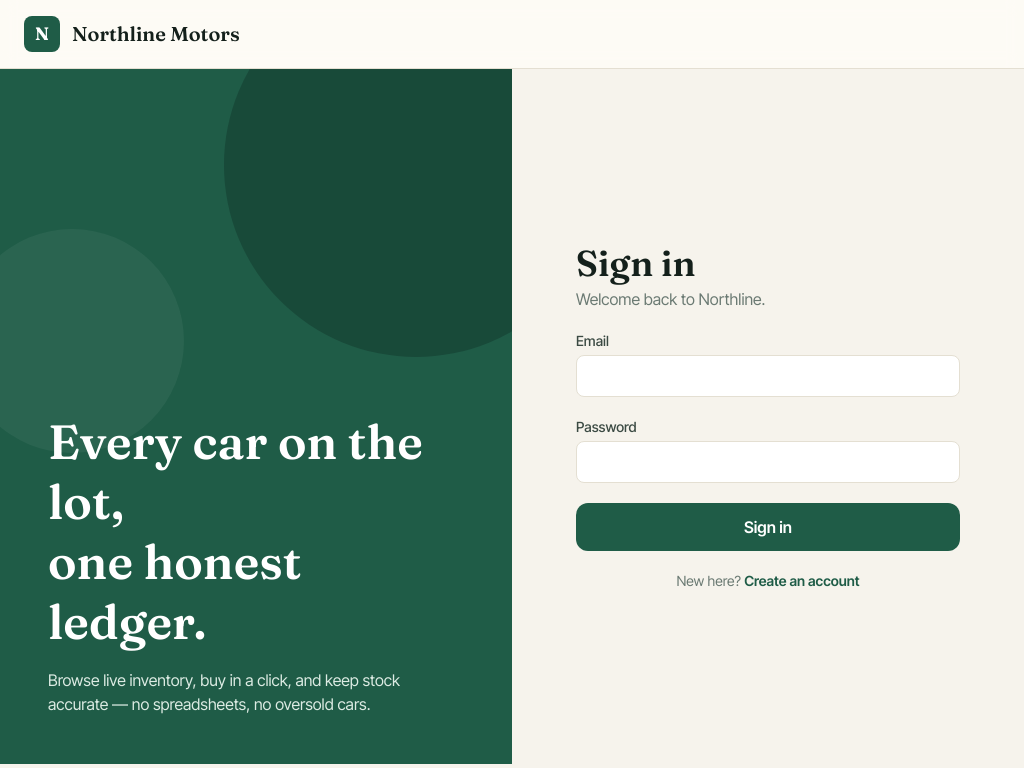
Test case: App › shows the server error on a failed login
Type "x@y.com" into the field labelled "Email" at x=768, y=376, box [576,354,960,396]
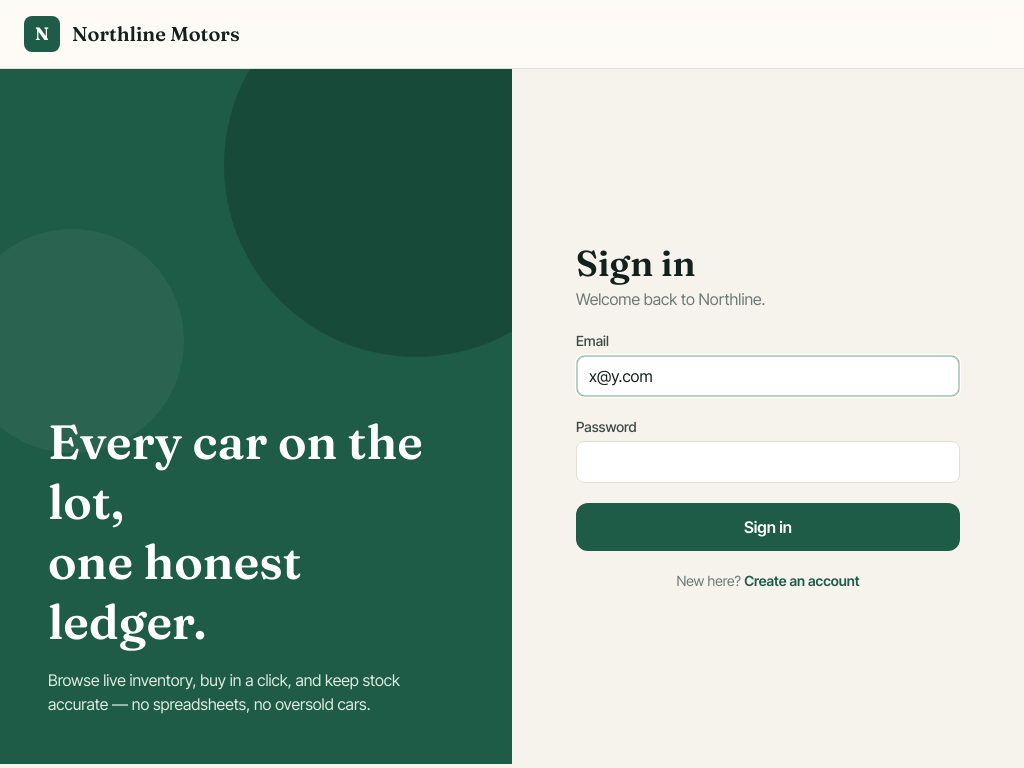
Type "badpassword" into the password field labelled "Password" at x=768, y=462, box [576,440,960,482]
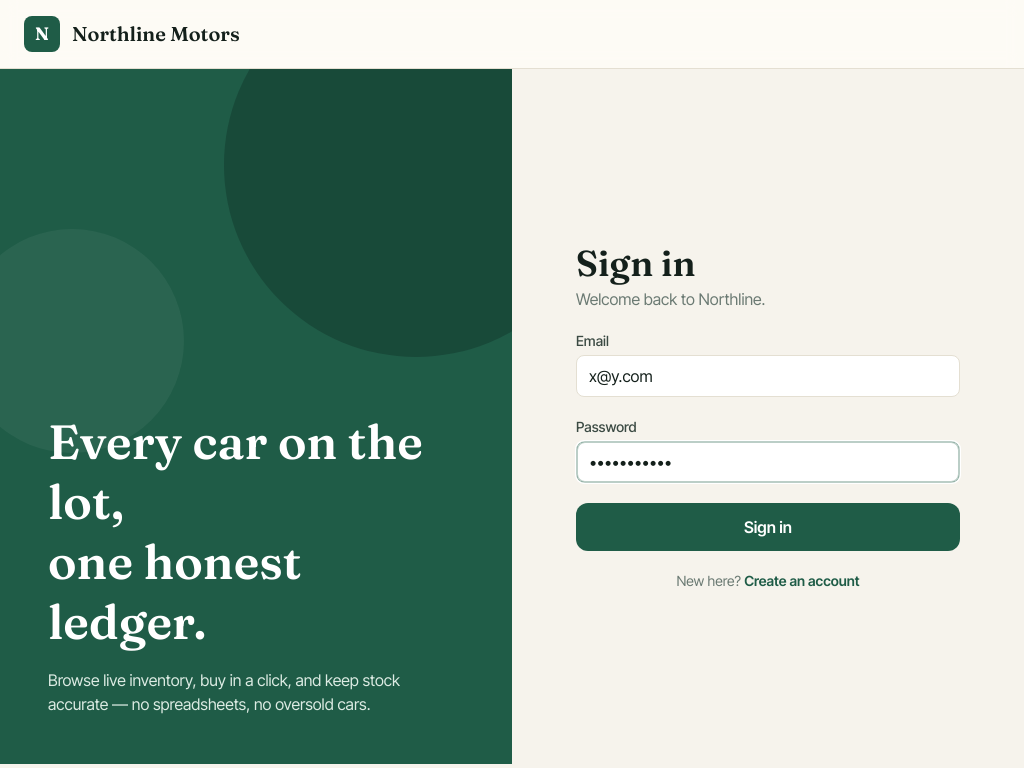
Click the button "Sign in" at x=768, y=526, box [576,502,960,550]
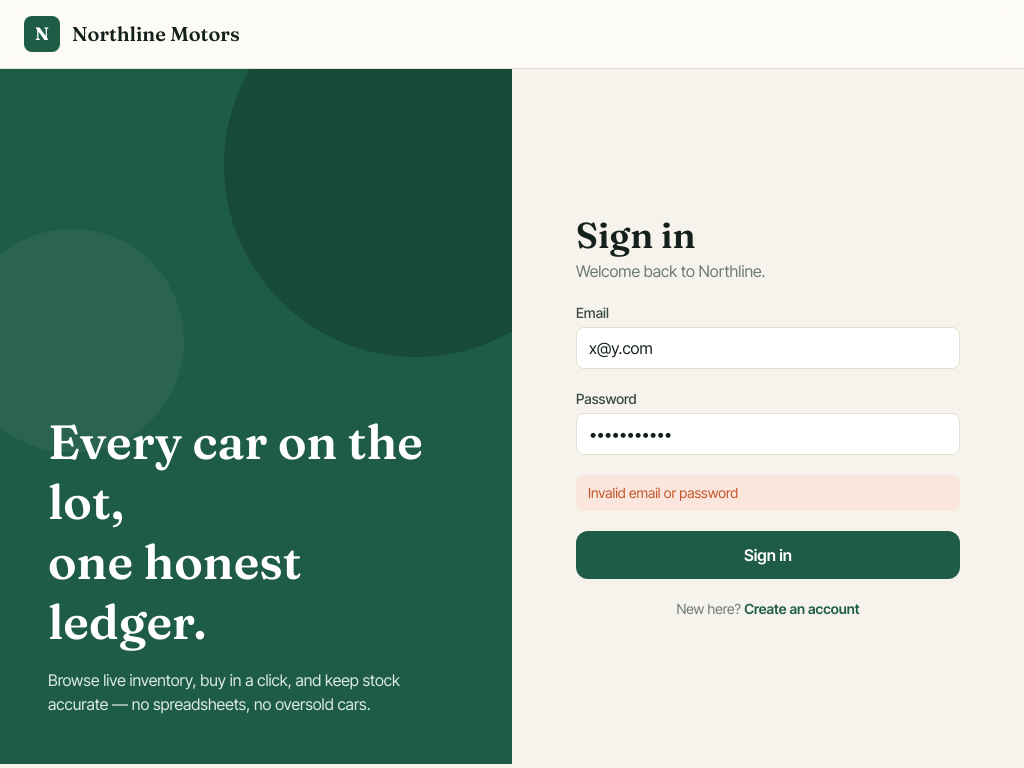
Now the message reads "Invalid email or password", box [588,484,738,500]
